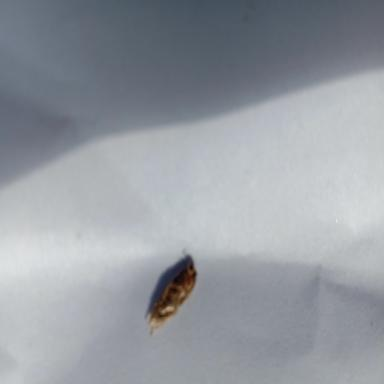pbw: (144, 248, 201, 339)
